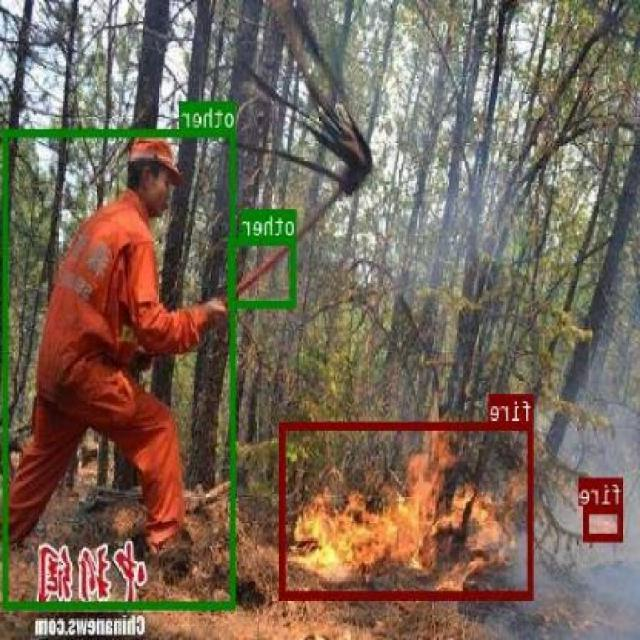Fire: (281, 422, 534, 598), (584, 505, 624, 541)
